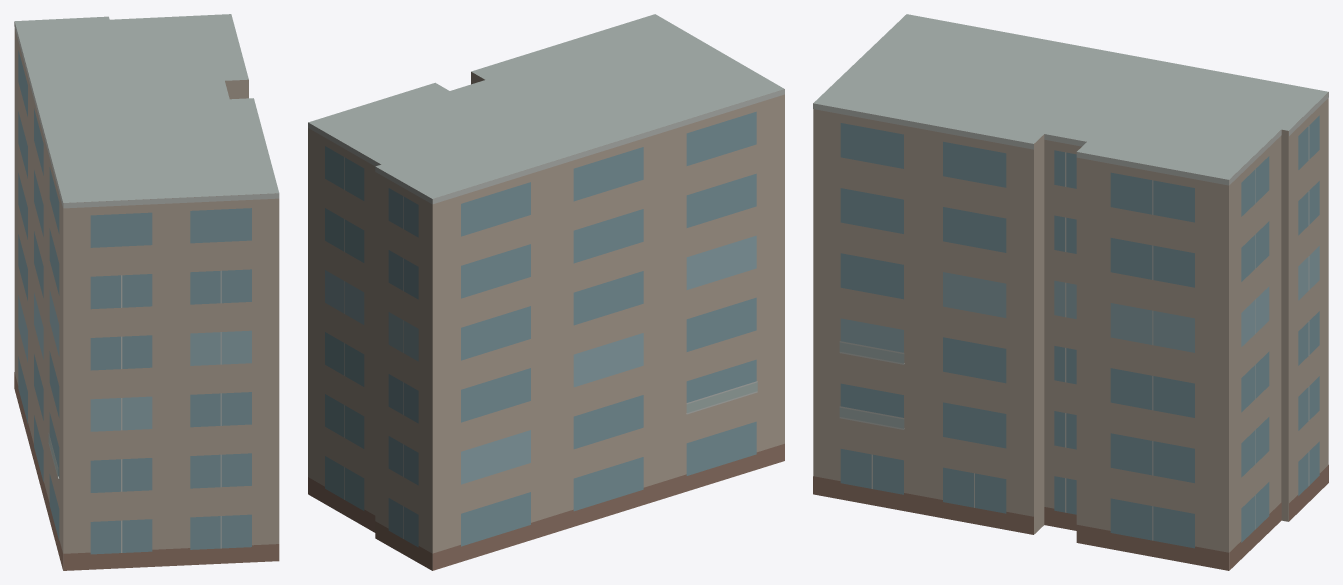
Rendered from survey-upis-33014939.glb.
3 renders of one model, left to right at view 1: azimuth 30°, elevation 25°; view 2: azimuth 150°, elevation 25°; view 3: azimuth 270°, elevation 25°, orthographic. The views are drawn at different scales.
Parts seen in each view (by area): view 1: survey-upis-33014939.tmp; view 2: survey-upis-33014939.tmp; view 3: survey-upis-33014939.tmp.
Boxes of the visible parts, x1,y1,x2,y2 form: survey-upis-33014939.tmp: (14, 14, 279, 570); survey-upis-33014939.tmp: (308, 14, 784, 570); survey-upis-33014939.tmp: (813, 14, 1328, 570).
Size of the model in its own units: 15.2 by 16.7 by 19.97.
